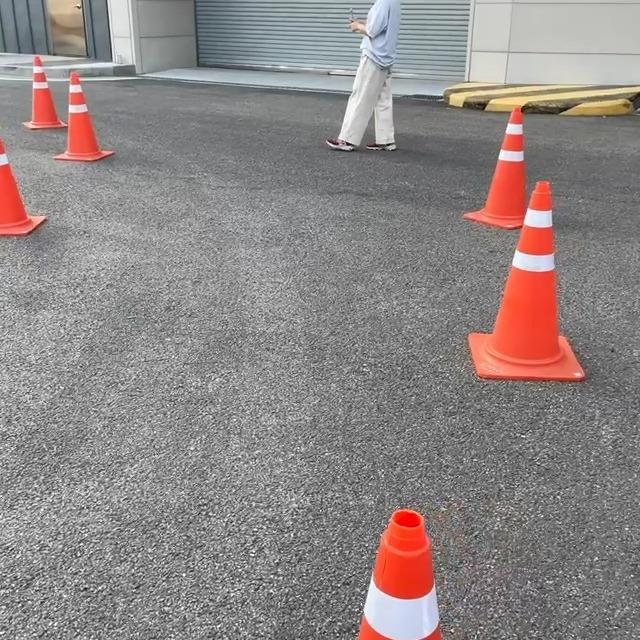fallen_object: (348, 444, 534, 640), (473, 170, 605, 411), (23, 47, 120, 183), (455, 96, 544, 240), (0, 130, 56, 287)
